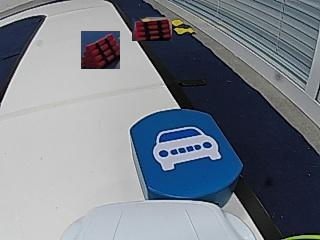safety: (153, 127, 224, 169)
